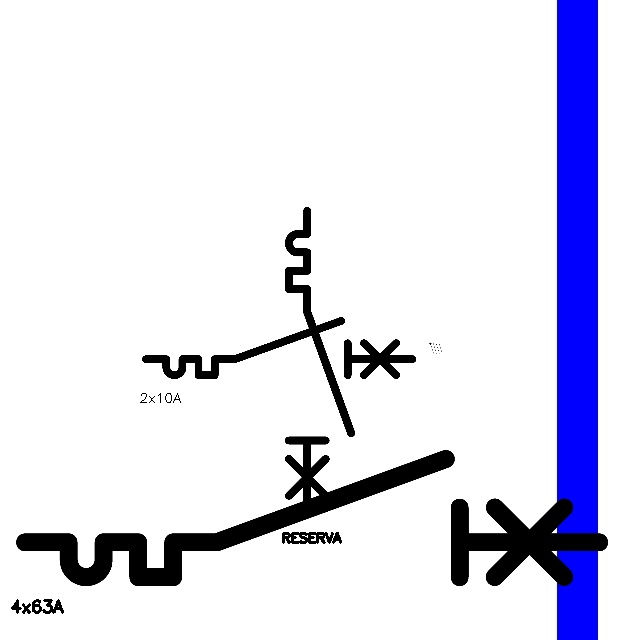interruptor_termomagnetico: (10, 444, 613, 592), (281, 203, 359, 522), (139, 314, 419, 382)
